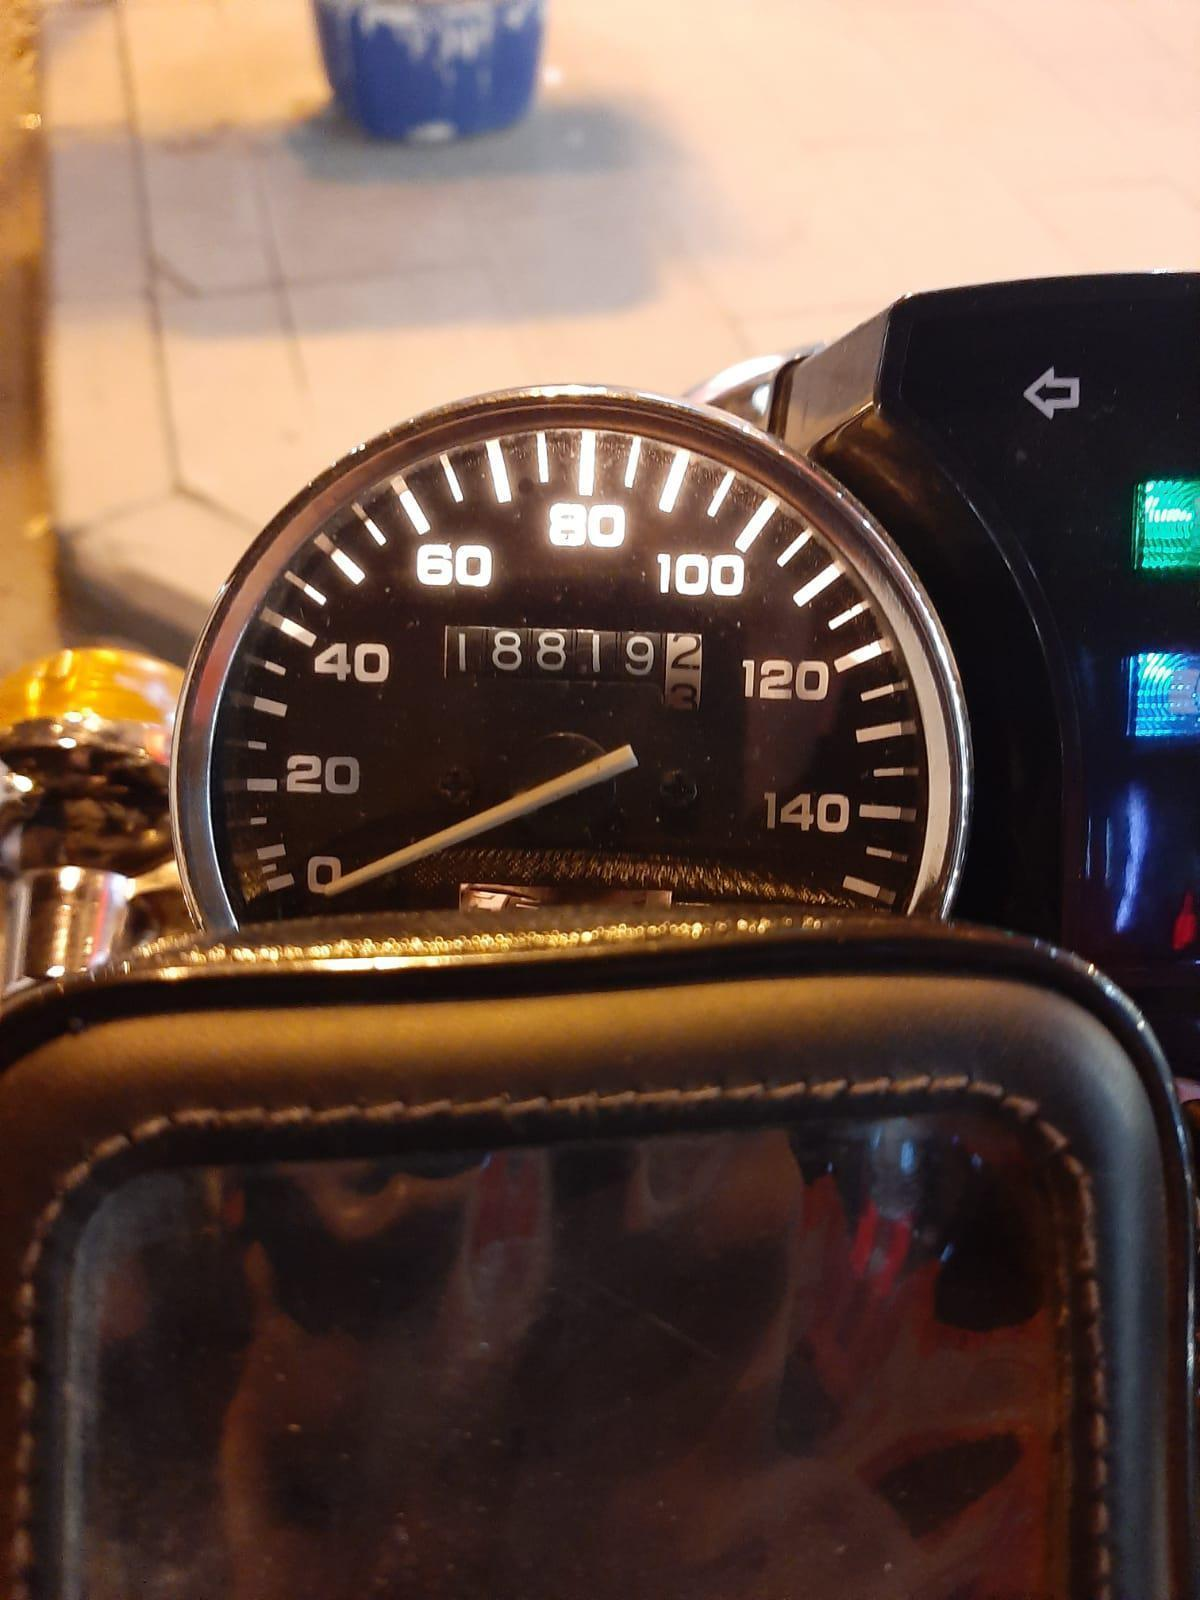1: (585, 627, 608, 677), (455, 630, 470, 671)
2: (666, 627, 706, 678)
3: (668, 682, 701, 711)
8: (534, 627, 567, 674), (492, 629, 524, 671)
9: (623, 634, 657, 678)
odometer: (435, 619, 722, 717)
